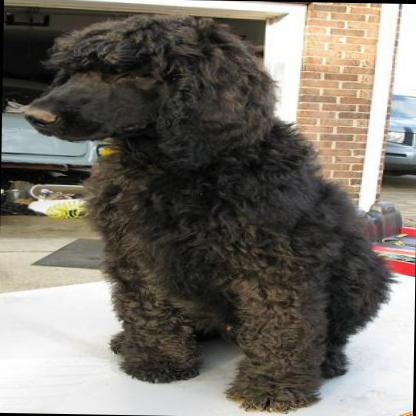standard_poodle: (13, 8, 400, 416)
